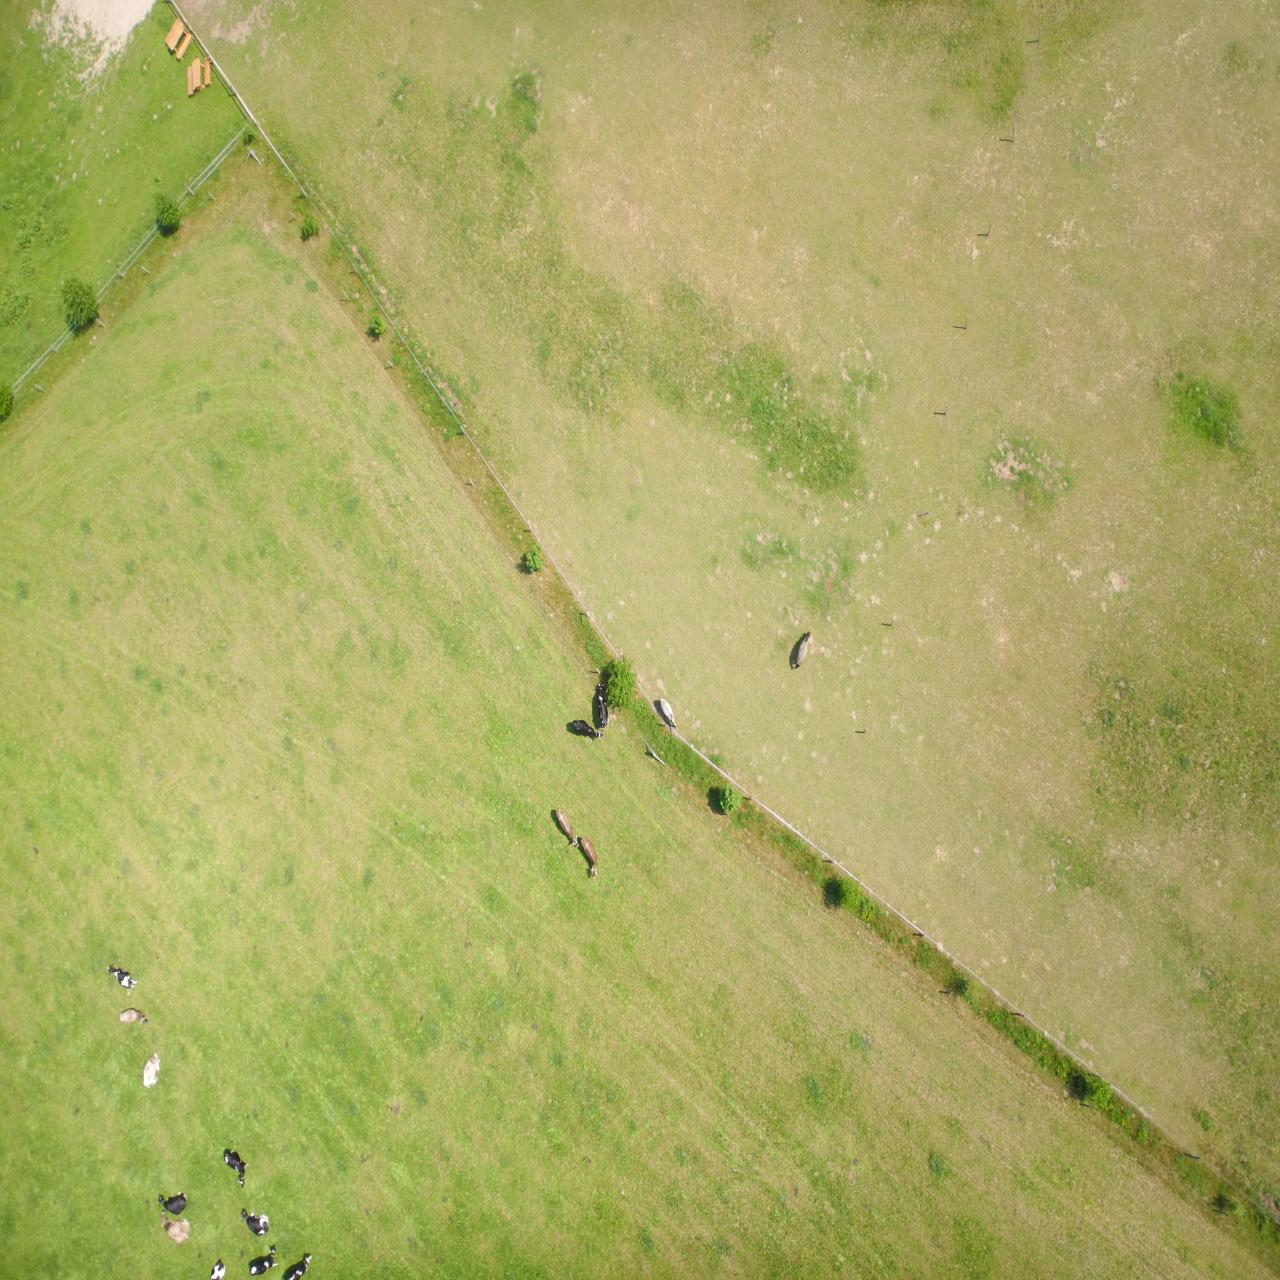cow: (1032, 91, 1056, 131), (1001, 4, 1032, 35), (1089, 36, 1119, 68), (1143, 285, 1173, 315), (701, 433, 723, 472), (1012, 45, 1037, 74), (682, 402, 700, 444), (1092, 64, 1122, 87), (678, 542, 708, 561), (1119, 191, 1136, 226), (670, 552, 681, 597), (1132, 256, 1159, 271)
